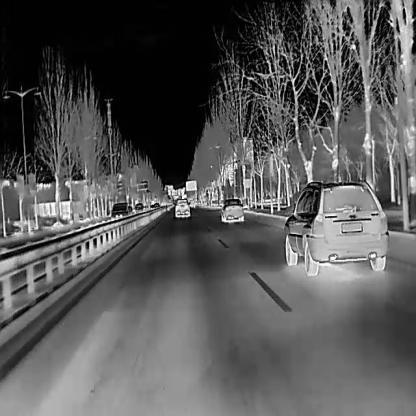car: (283, 179, 387, 275), (220, 198, 243, 223), (109, 201, 129, 221), (174, 196, 189, 217), (133, 203, 143, 215), (149, 204, 155, 211), (189, 200, 195, 207), (154, 202, 159, 209)
